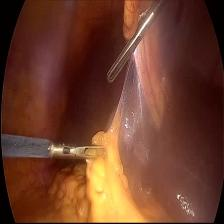Grasper: (100, 10, 163, 84), (50, 134, 110, 175)
